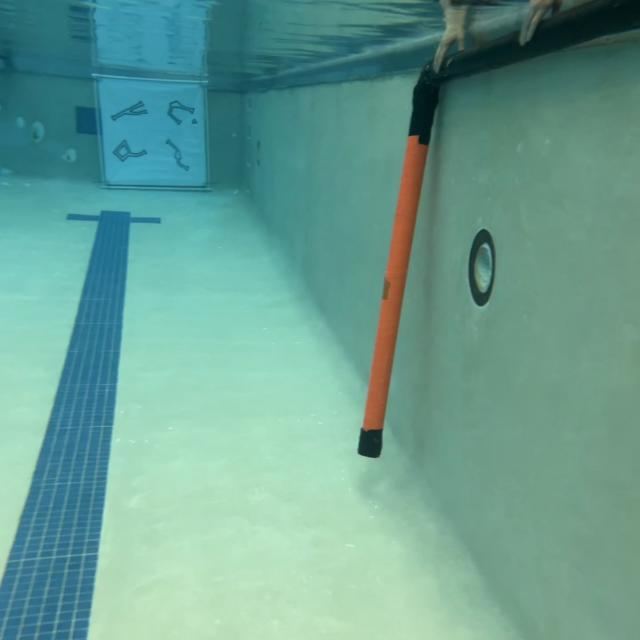abydos: (110, 101, 148, 121), (166, 138, 189, 170)
buoy: (96, 74, 209, 188)
earth: (167, 100, 198, 126), (113, 140, 147, 162)
gate: (354, 0, 640, 461)
